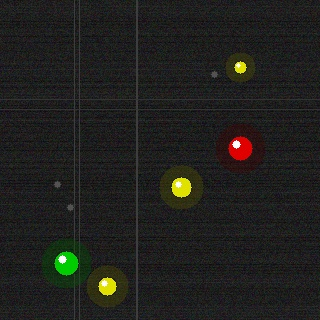green_normal: (52, 249, 80, 277)
red_fault: (226, 134, 254, 162)
yellow_warning: (169, 175, 193, 199), (96, 275, 118, 297), (232, 59, 248, 75)
